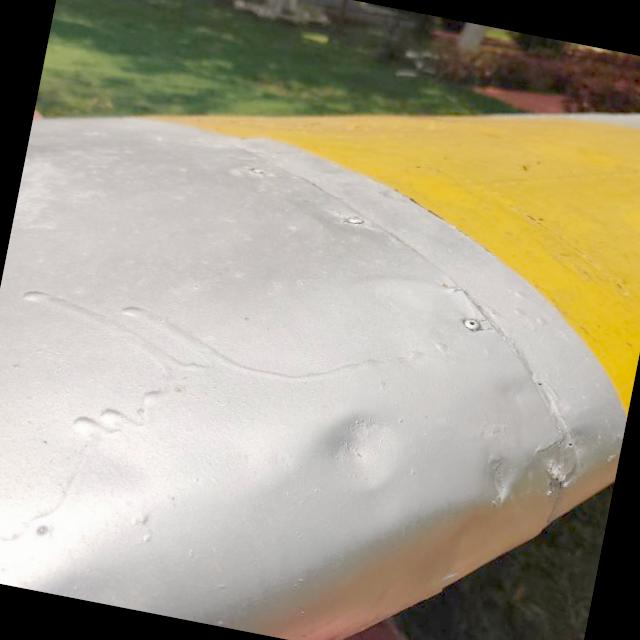dent: (274, 368, 444, 534), (455, 430, 546, 526)
